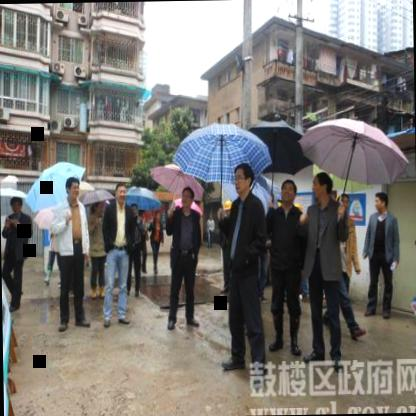head: (310, 168, 335, 205), (232, 162, 254, 198), (62, 172, 80, 204), (278, 176, 296, 206), (372, 188, 391, 216), (112, 179, 127, 204), (179, 185, 194, 210), (9, 194, 22, 218)
